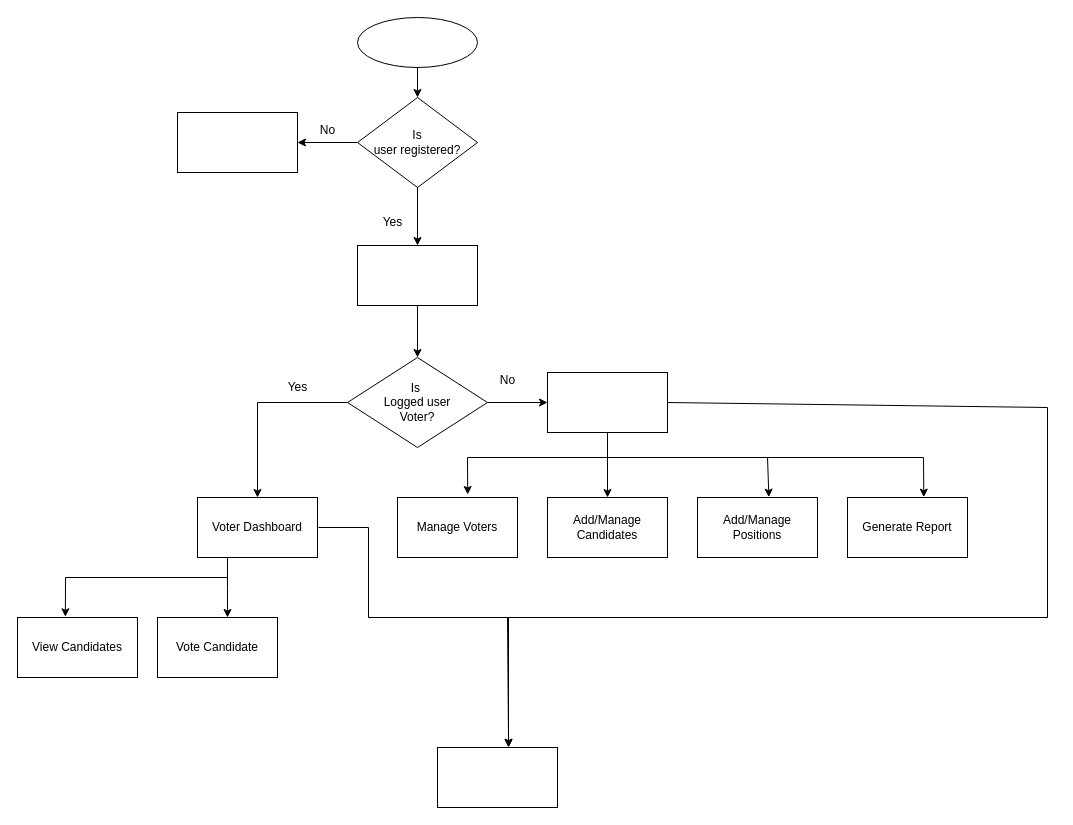
Image size: 1073x825. Some labels were removed from this diagram. The centre of each missing label's shape, as x and y in pixels:
Admin Dashboard: [607,402]
Login: [417,275]
Logout: [497,777]
Register: [237,142]
Start: [417,42]
